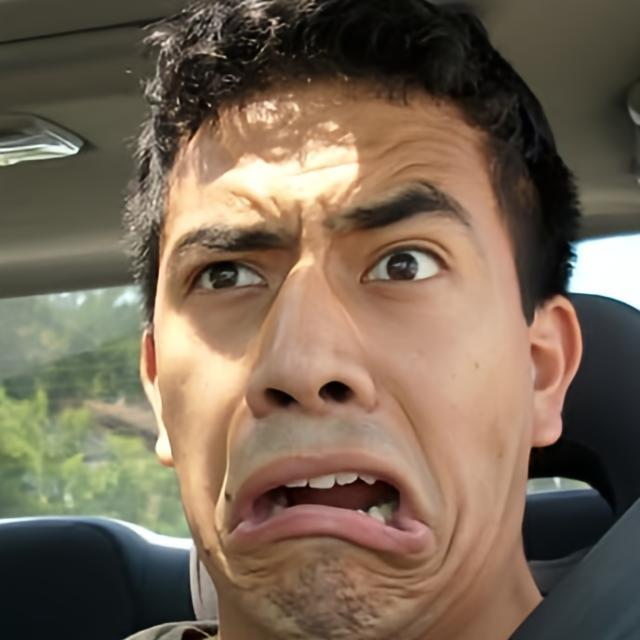disgust: (155, 64, 533, 640)
